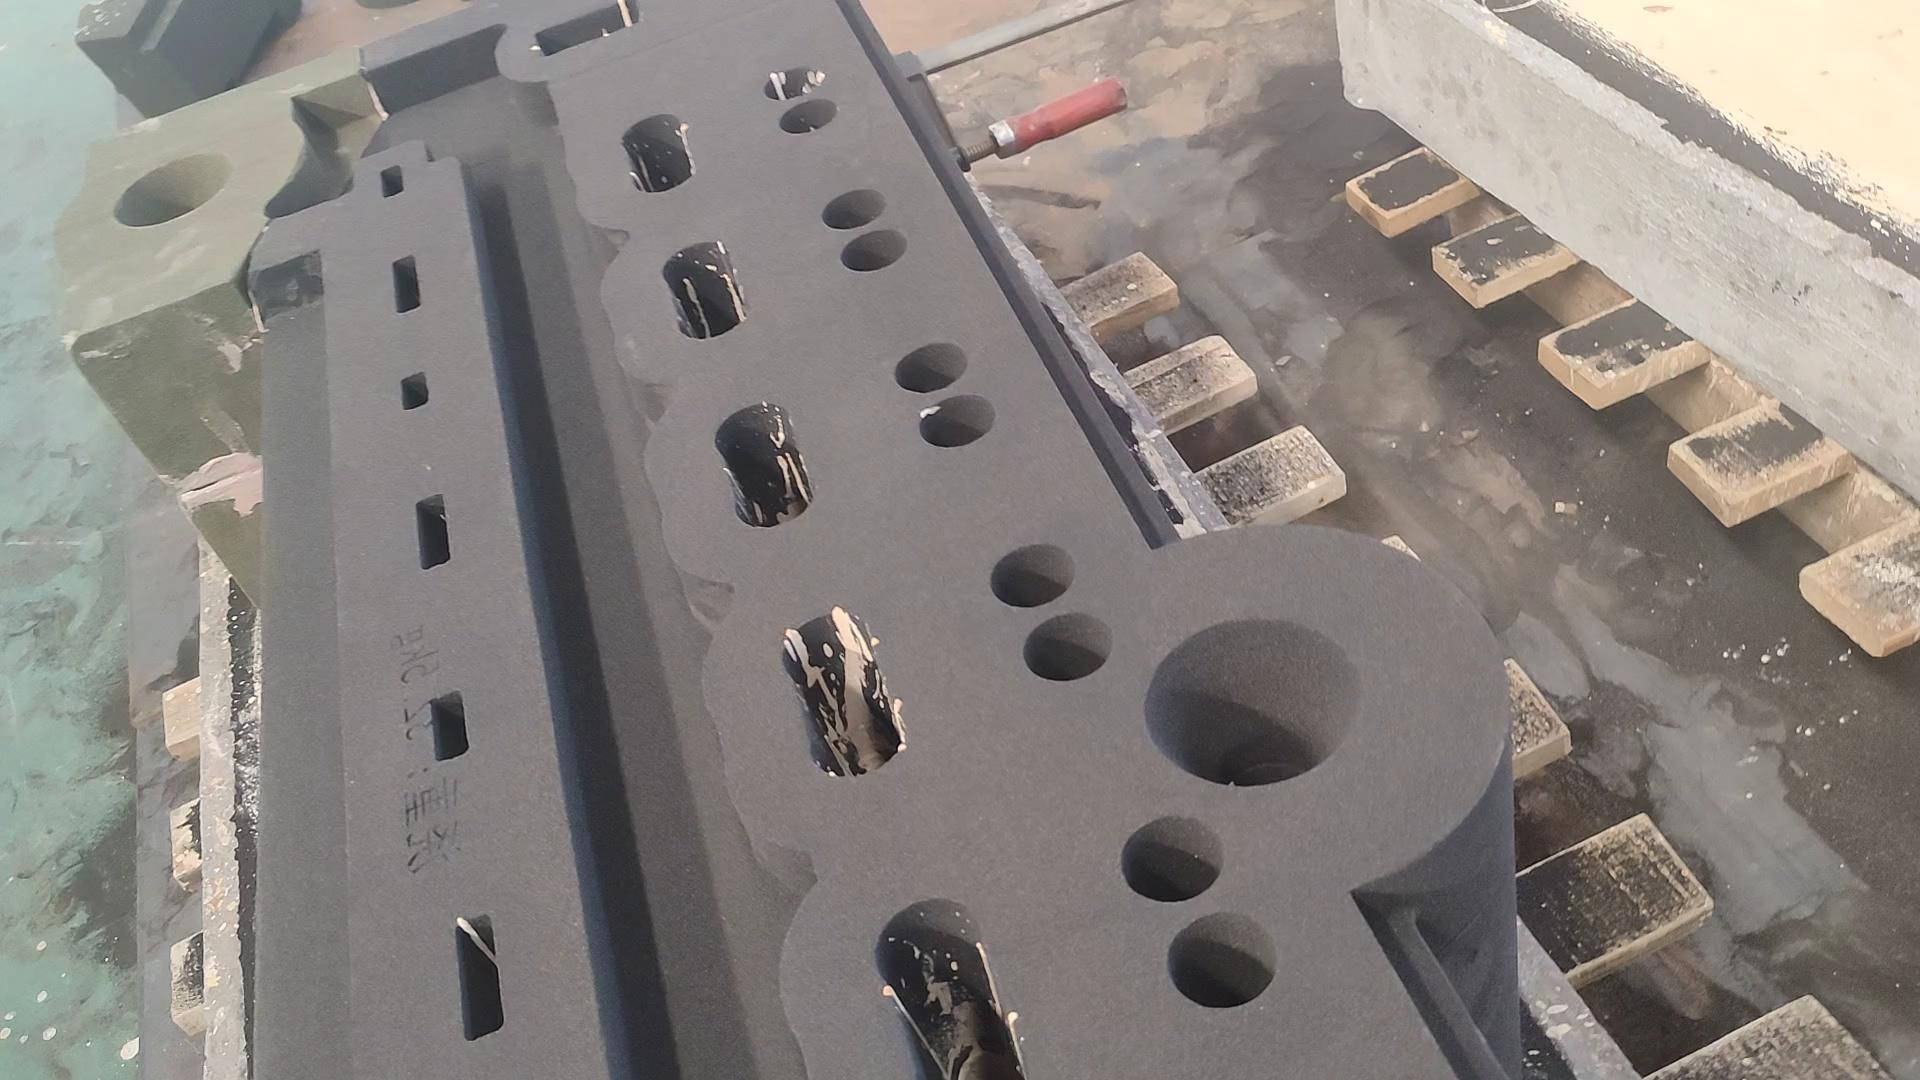pouring hole: (1145, 616, 1364, 789), (113, 152, 232, 225)
